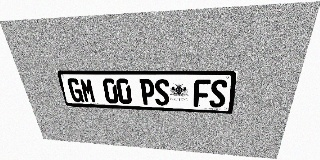0: (102, 78, 119, 104), (115, 78, 132, 104)
F: (193, 79, 210, 107)
G: (66, 78, 84, 102)
M: (79, 78, 97, 103)
P: (139, 79, 155, 105)
S: (209, 79, 228, 108), (154, 79, 170, 106)
